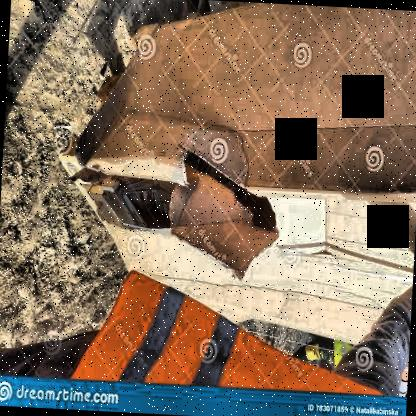defect parcel: (28, 89, 370, 294)
